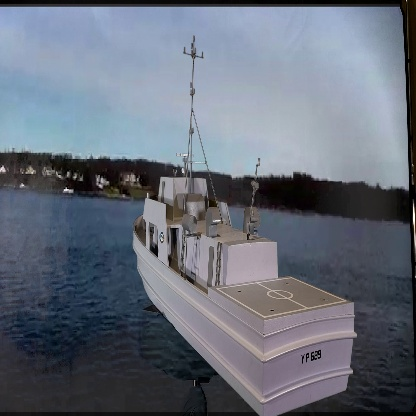YP689: (130, 36, 358, 416)
